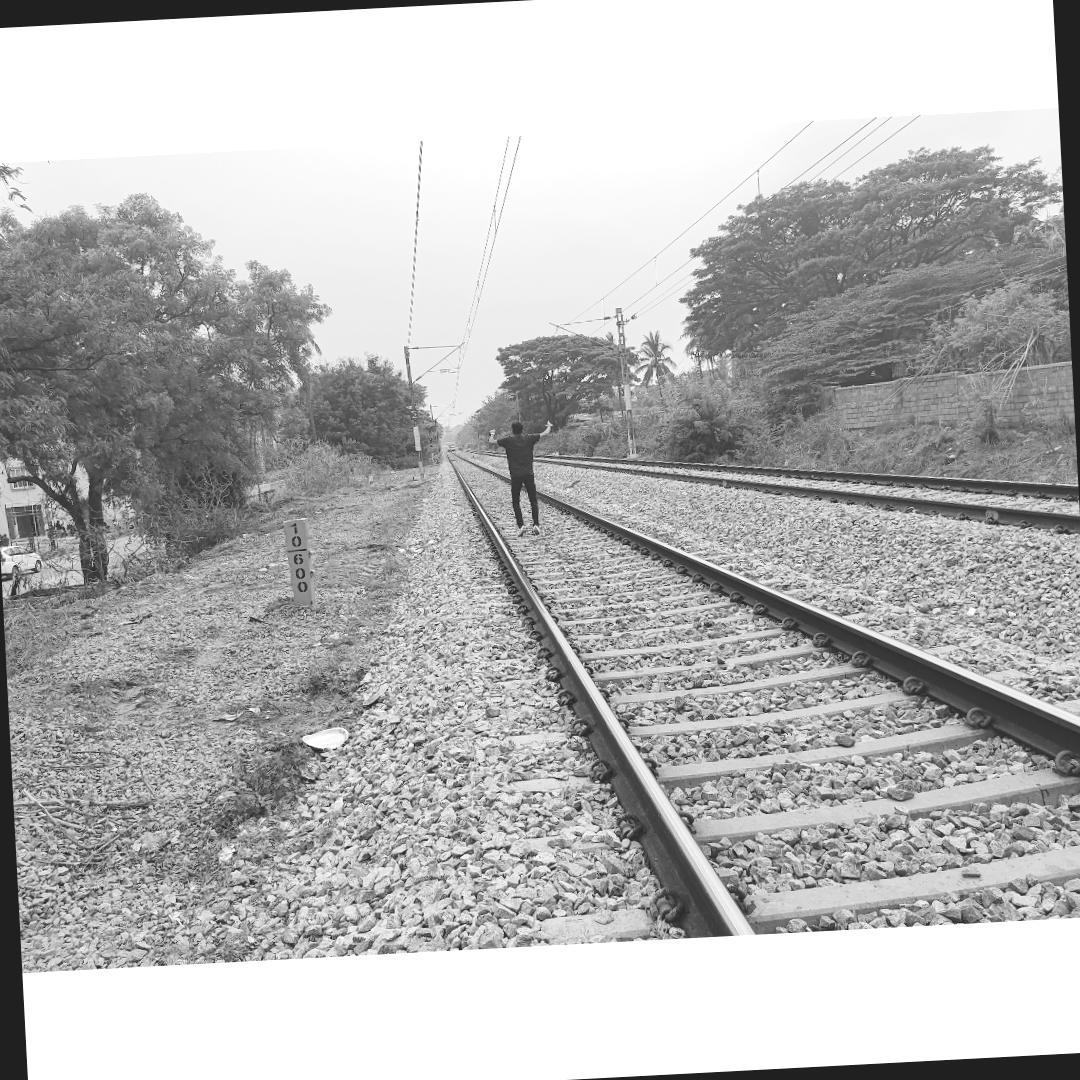standing: (485, 417, 558, 537)
track: (430, 440, 1080, 945)
